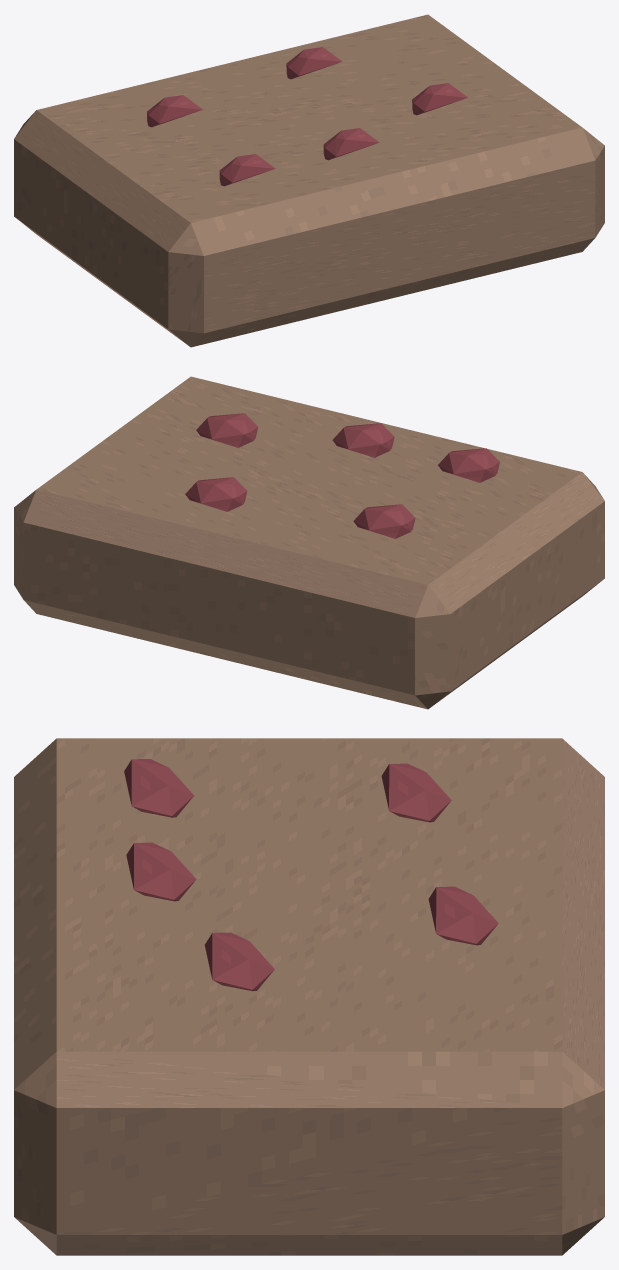
File: pemmican.glb
3 views of the same model, one above another, from view 1: azimuth 30°, elevation 25°; view 2: azimuth 150°, elevation 25°; view 3: azimuth 270°, elevation 25° (orthographic). The views are drawn at different scales.
Parts seen in each view (by area): view 1: block_tallow and dried meat bar, block_visible crumb flecks (×5); view 2: block_tallow and dried meat bar, block_visible crumb flecks (×5); view 3: block_tallow and dried meat bar, block_visible crumb flecks (×5).
Part boxes in pixels (x1,y1,x2,y2): block_tallow and dried meat bar: (14,14,604,347); block_visible crumb flecks (×5): (147,47,467,186); block_tallow and dried meat bar: (14,376,604,709); block_visible crumb flecks (×5): (185,413,499,538); block_tallow and dried meat bar: (14,738,604,1255); block_visible crumb flecks (×5): (124,759,498,991).
Bounding box in the file's own units: 0.0942 × 0.0304 × 0.0674.
Materials: 1 (1 with a texture image).
